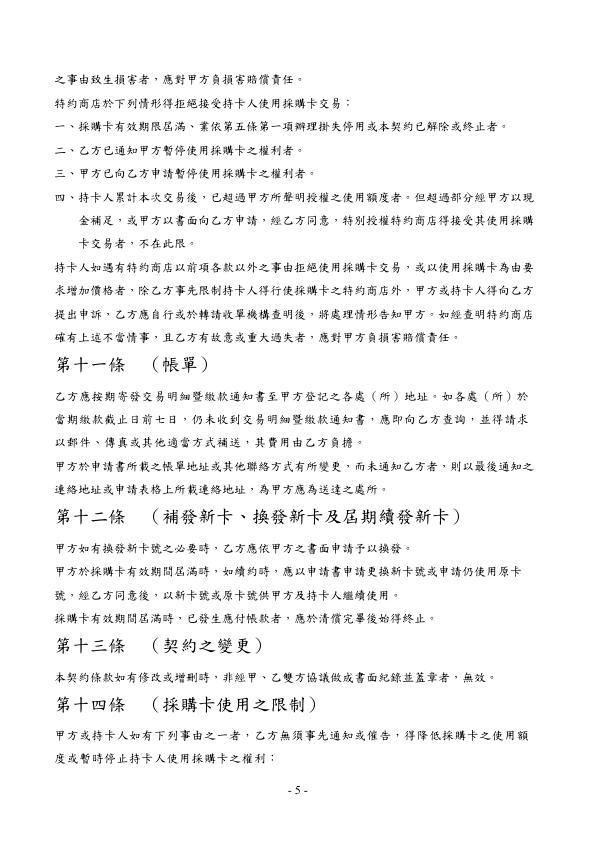text: (52, 352, 541, 501), (52, 507, 525, 630), (48, 69, 513, 184), (48, 256, 548, 346), (49, 694, 534, 765), (48, 189, 541, 250), (50, 634, 495, 686)
